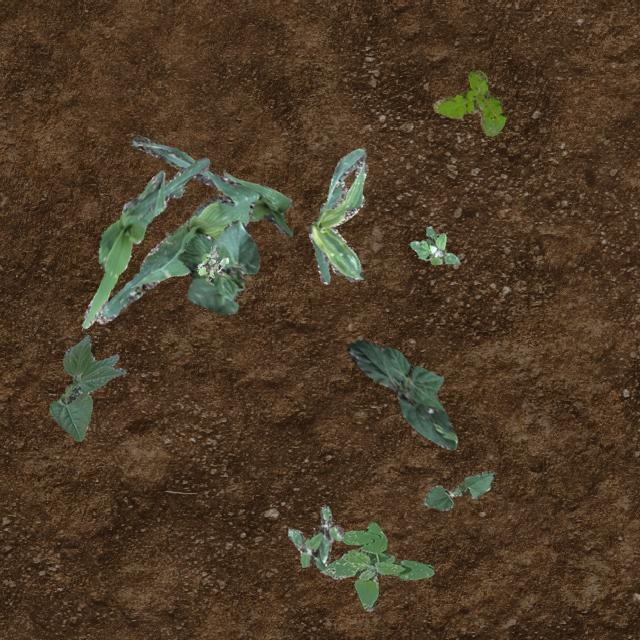crop: (95, 134, 258, 322), (80, 156, 208, 328), (346, 338, 456, 448), (308, 148, 368, 282), (49, 334, 124, 441), (176, 220, 258, 314), (222, 171, 292, 235), (422, 470, 493, 510)
weed: (320, 522, 432, 610), (432, 68, 506, 136), (286, 504, 344, 568), (408, 224, 458, 264), (196, 243, 228, 280)
